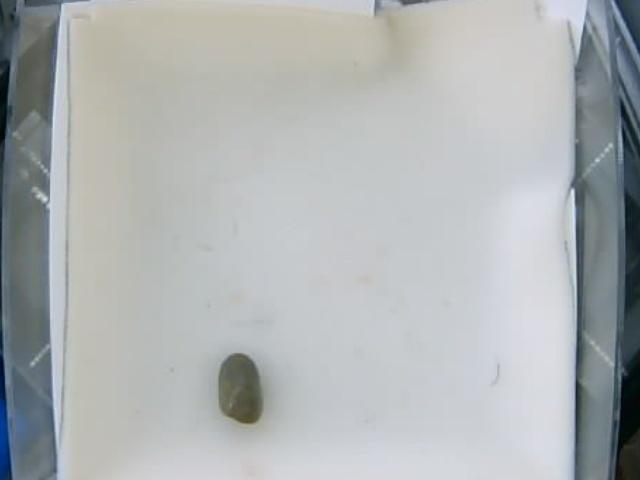Pebble: (220, 351, 263, 425)
